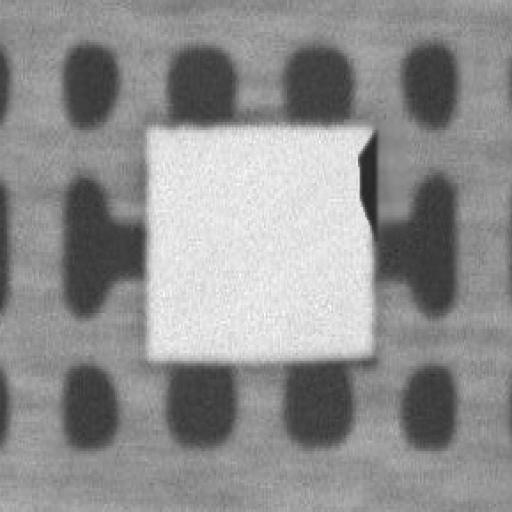DIE_BROKEN: (354, 127, 379, 236)
